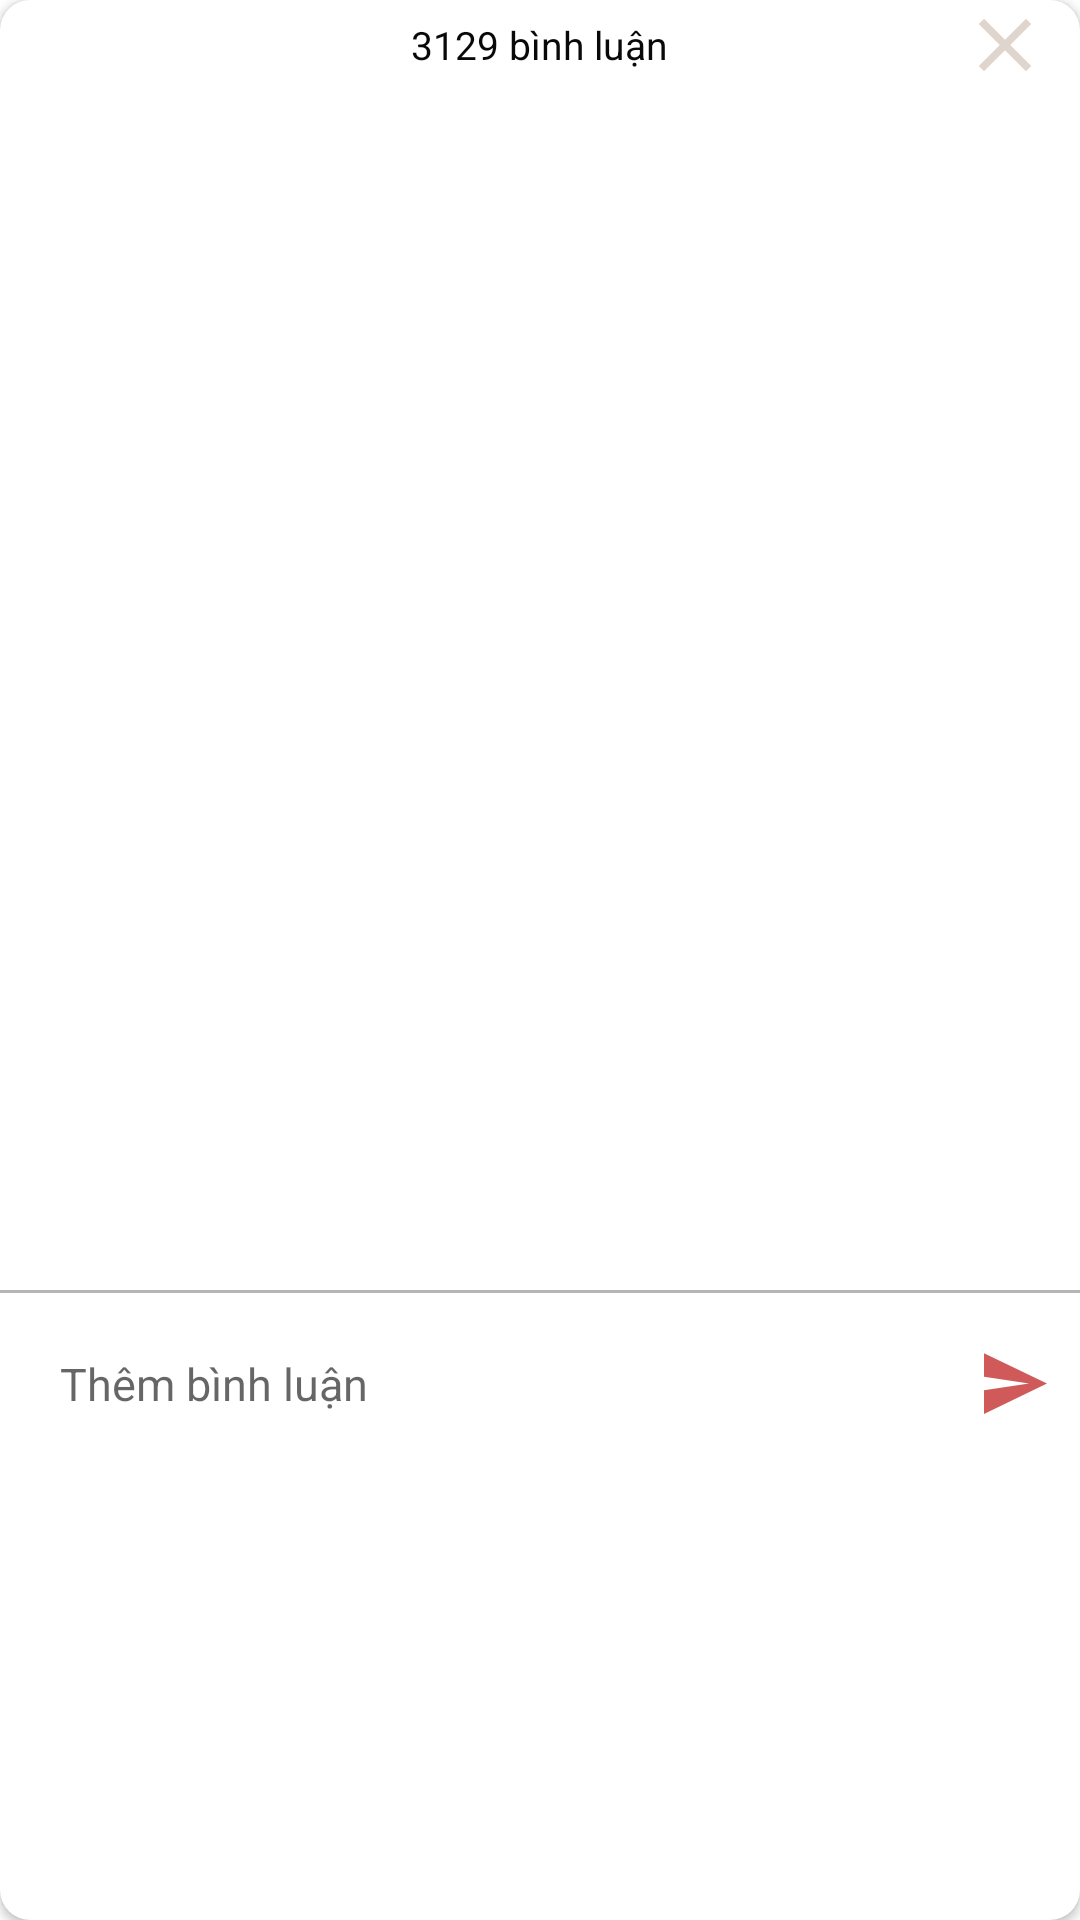

Where icons sit on this 1080x1920 app screen, as bbox=(x1, y1, x2, y2):
close: bbox=(979, 19, 1031, 71)
send: bbox=(984, 1353, 1047, 1414)
